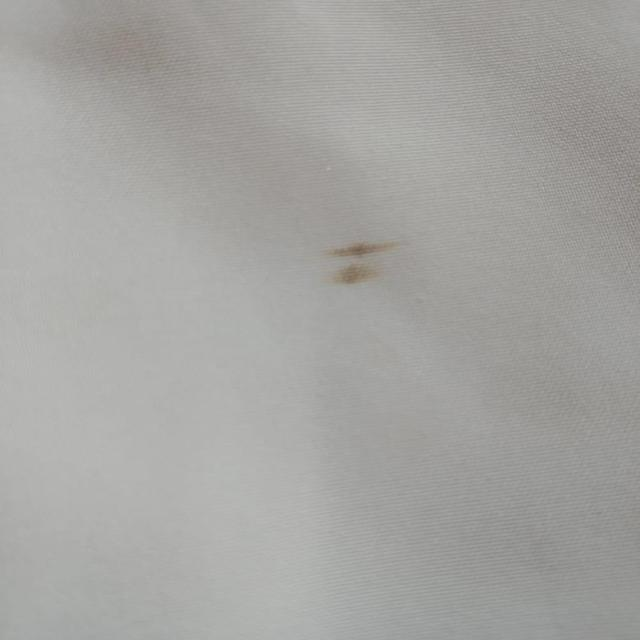stain: (318, 234, 409, 294)
